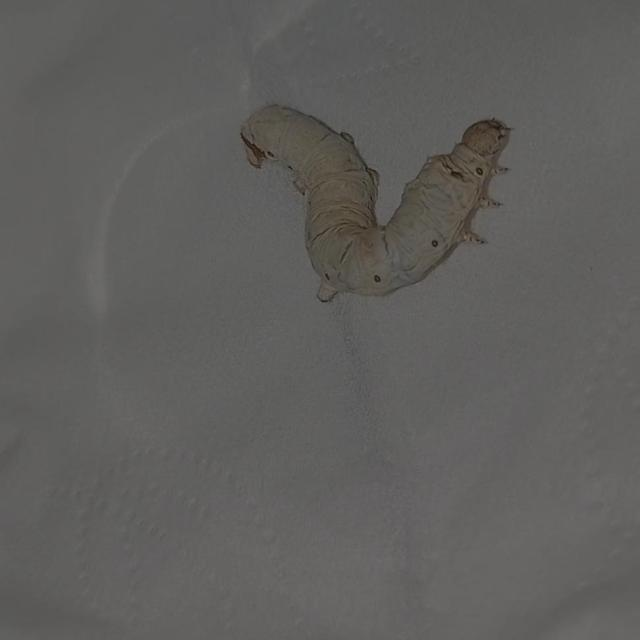Healthy: (198, 66, 561, 336)
